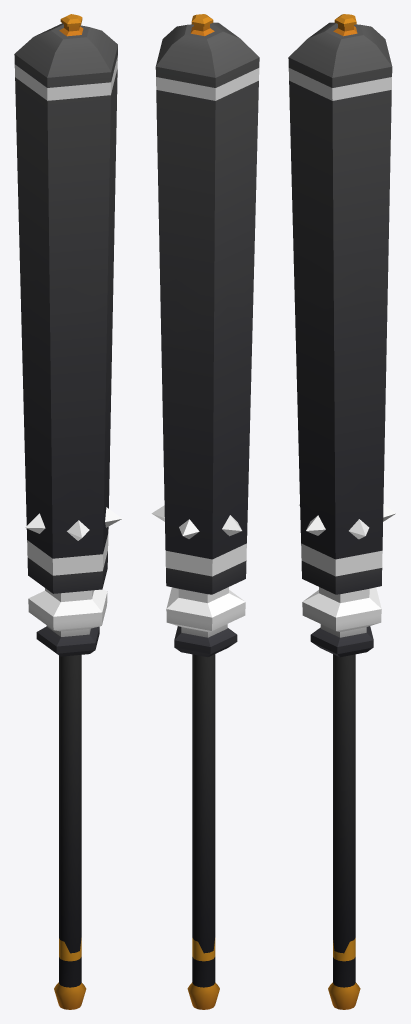
Rendered from Weapon_mace.fbx.
3 views of the same model, side by side, from view 1: azimuth 30°, elevation 25°; view 2: azimuth 210°, elevation 25°; view 3: azimuth 330°, elevation 25° (orthographic).
Parts seen in each view (by area): view 1: W_MC_1; view 2: W_MC_1; view 3: W_MC_1.
Part boxes in pixels (x1,y1,x2,y2): W_MC_1: (14, 14, 122, 1009); W_MC_1: (151, 14, 259, 1009); W_MC_1: (288, 14, 395, 1009).
Bounding box in the file's own units: 10.95 × 111 × 10.78.
